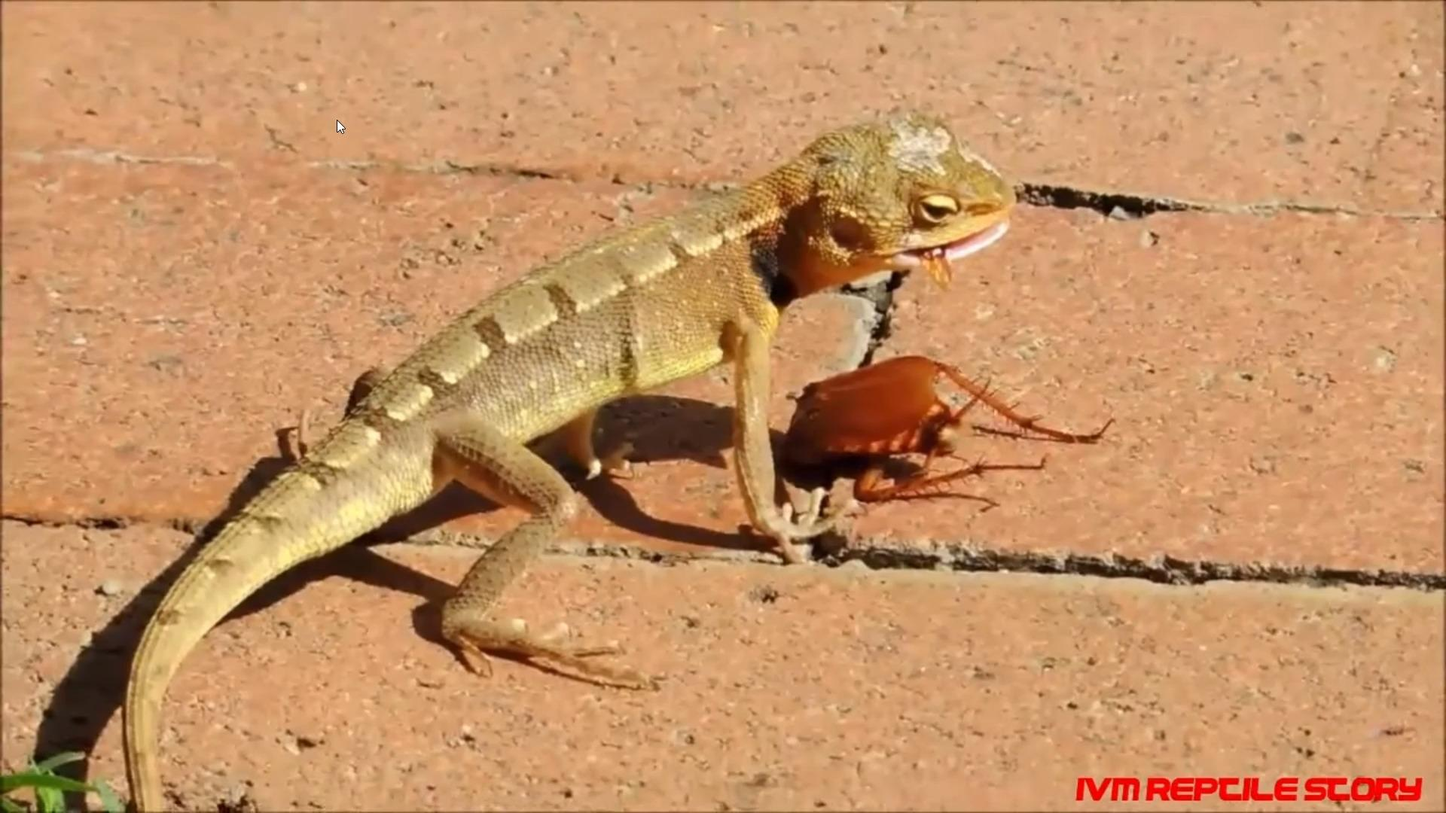cockroach: (781, 355, 1001, 511)
lizard: (138, 103, 1019, 727)
